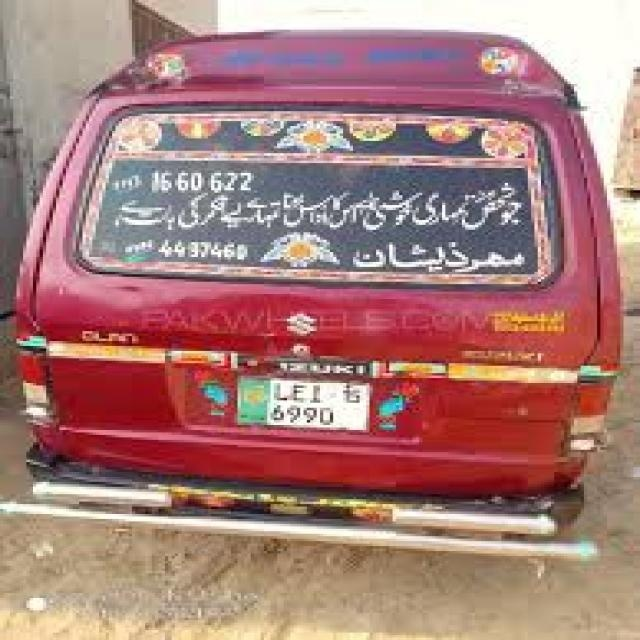Van: (4, 25, 634, 563)
